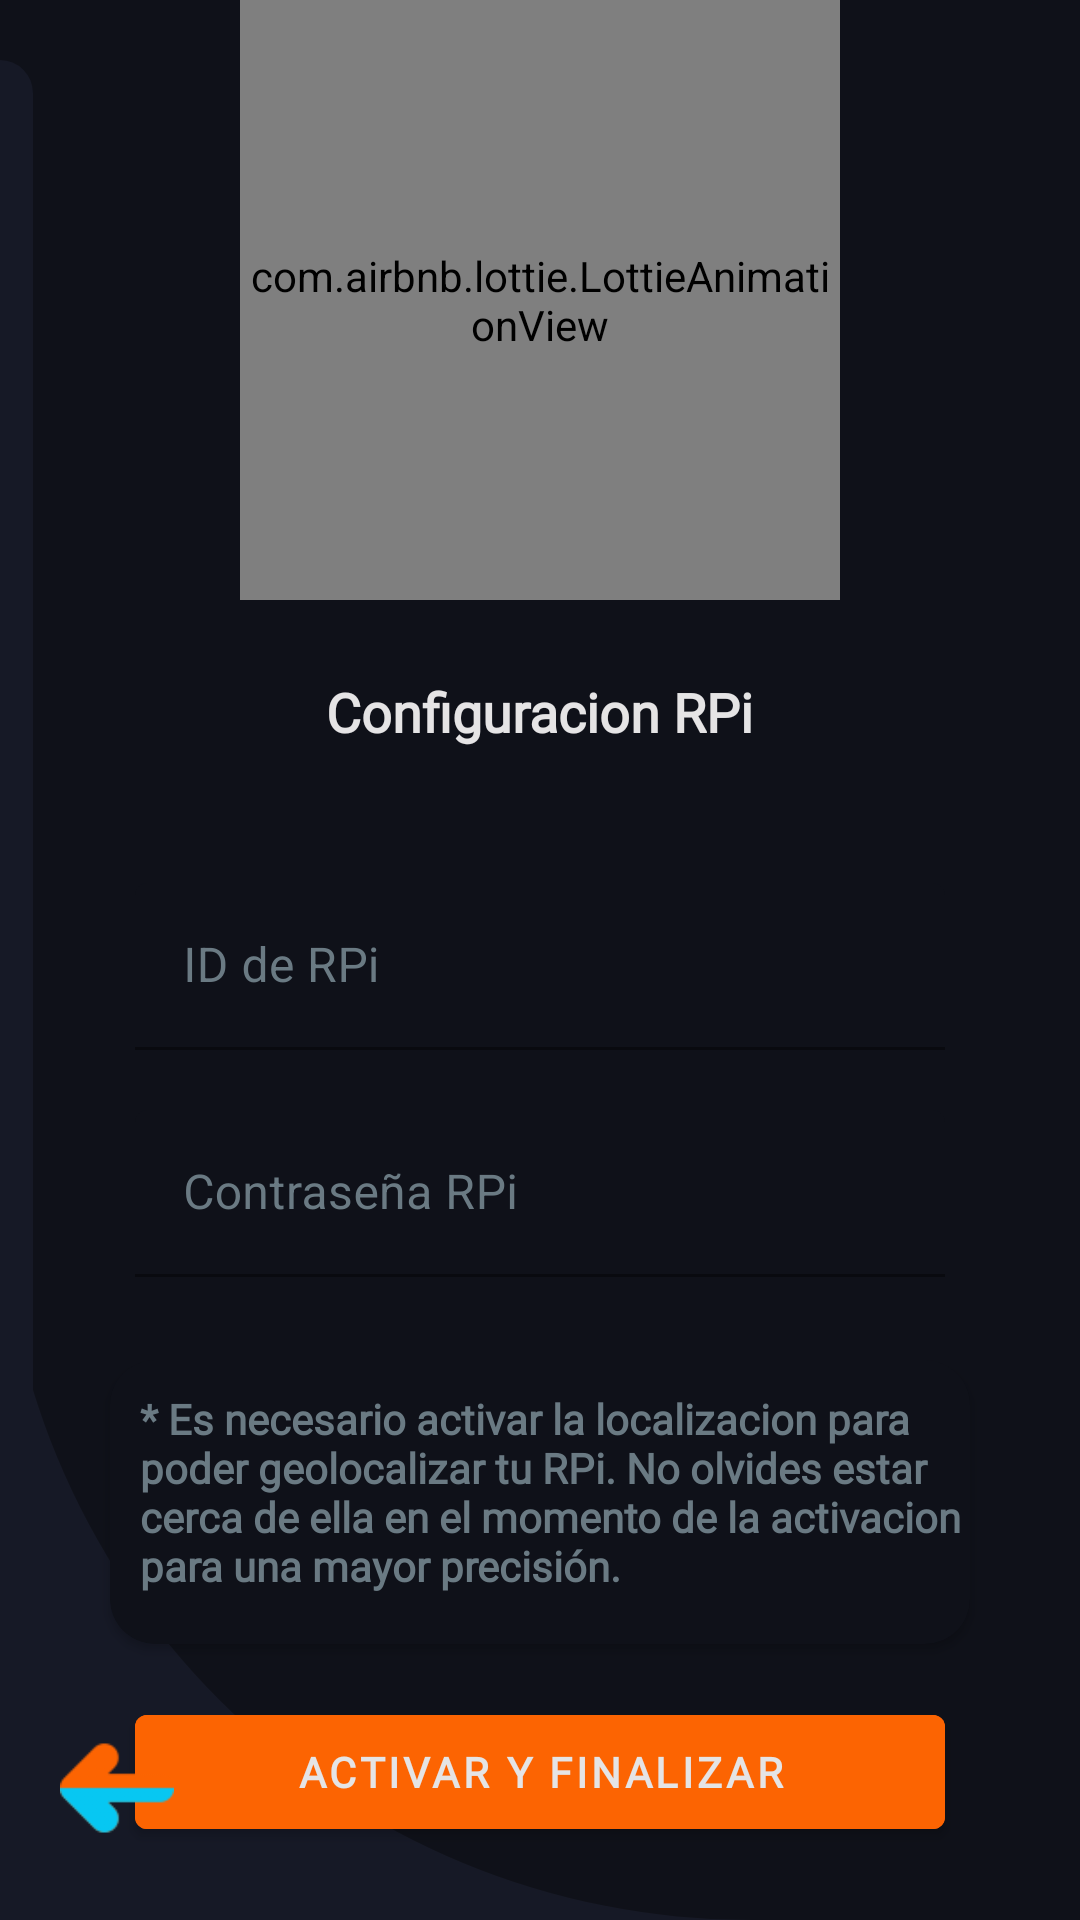

Screen size 1080 x 1920. Icon name, then its center in pixels as point (x, y):
atras register: point (117, 1782)
